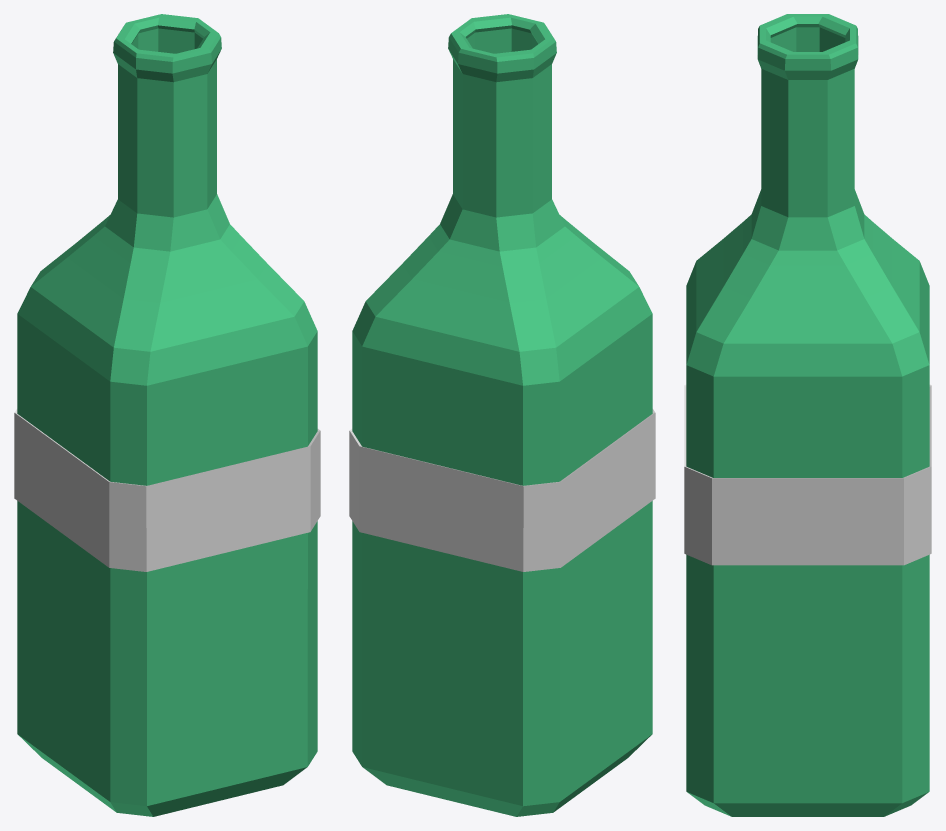
The model's file is BotellaVidrio.fbx.
3 renders of one model, left to right at view 1: azimuth 30°, elevation 25°; view 2: azimuth 150°, elevation 25°; view 3: azimuth 270°, elevation 25°, orthographic.
Parts seen in each view (by area): view 1: BotellaVIdrio; view 2: BotellaVIdrio; view 3: BotellaVIdrio.
Boxes of the visible parts, box(x1,y1,x2,y2) form: BotellaVIdrio: box(14, 14, 320, 816); BotellaVIdrio: box(349, 14, 655, 816); BotellaVIdrio: box(684, 14, 931, 816).
Size of the model in its own units: 204 by 671 by 204.
